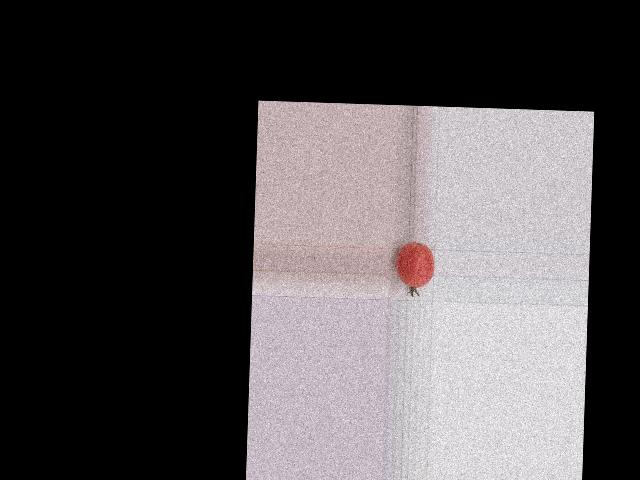tomato: (396, 241, 435, 288)
